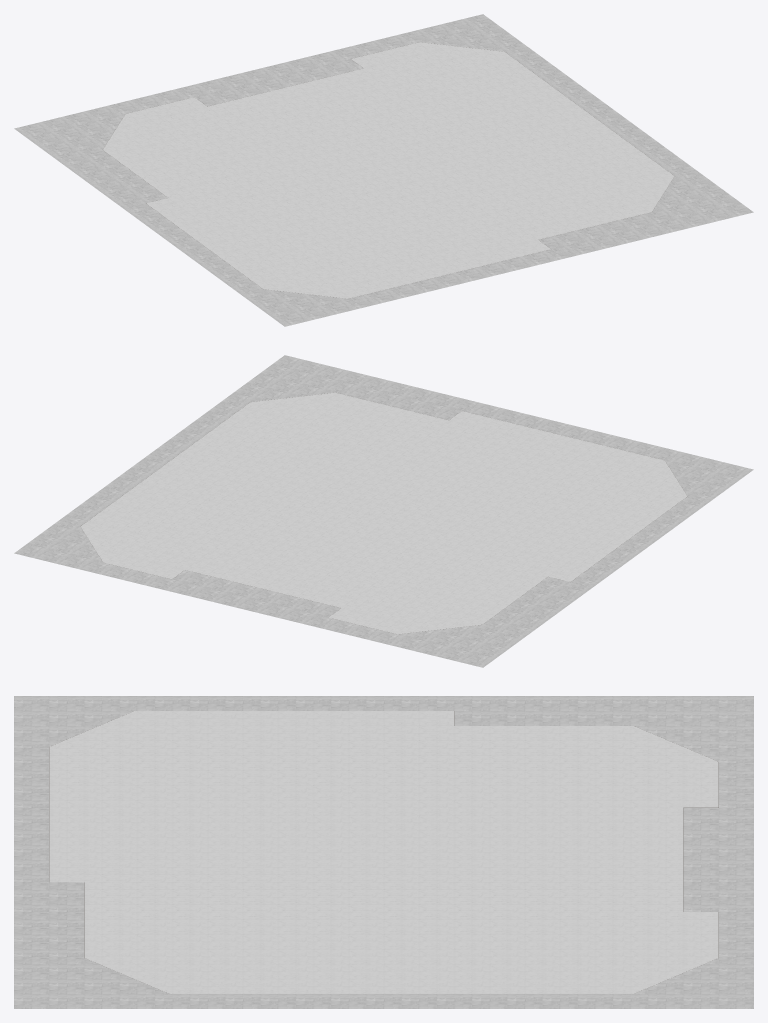
The model's file is MMo_F_001_a_84x84.fbx.
The picture shows the model from 3 angles, top to bottom: view 1: azimuth 30°, elevation 25°; view 2: azimuth 150°, elevation 25°; view 3: azimuth 270°, elevation 25°; orthographic projection. The views are drawn at different scales.
Parts seen in each view (by area): view 1: MMo_F_001_a_84x84; view 2: MMo_F_001_a_84x84; view 3: MMo_F_001_a_84x84.
Boxes of the visible parts, left/top/right/bottom form: MMo_F_001_a_84x84: left=14, top=14, right=753, bottom=326; MMo_F_001_a_84x84: left=14, top=355, right=753, bottom=667; MMo_F_001_a_84x84: left=14, top=696, right=753, bottom=1008.
Size of the model in its own units: 84 by 3.67e-06 by 84.
